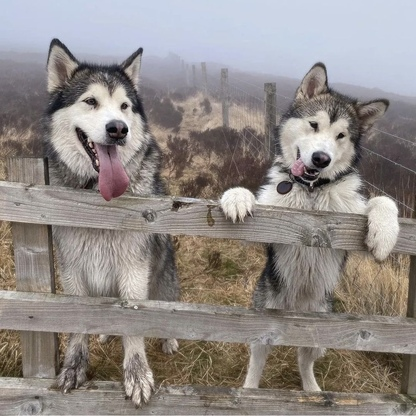husky: (213, 55, 403, 404), (34, 32, 187, 410)
